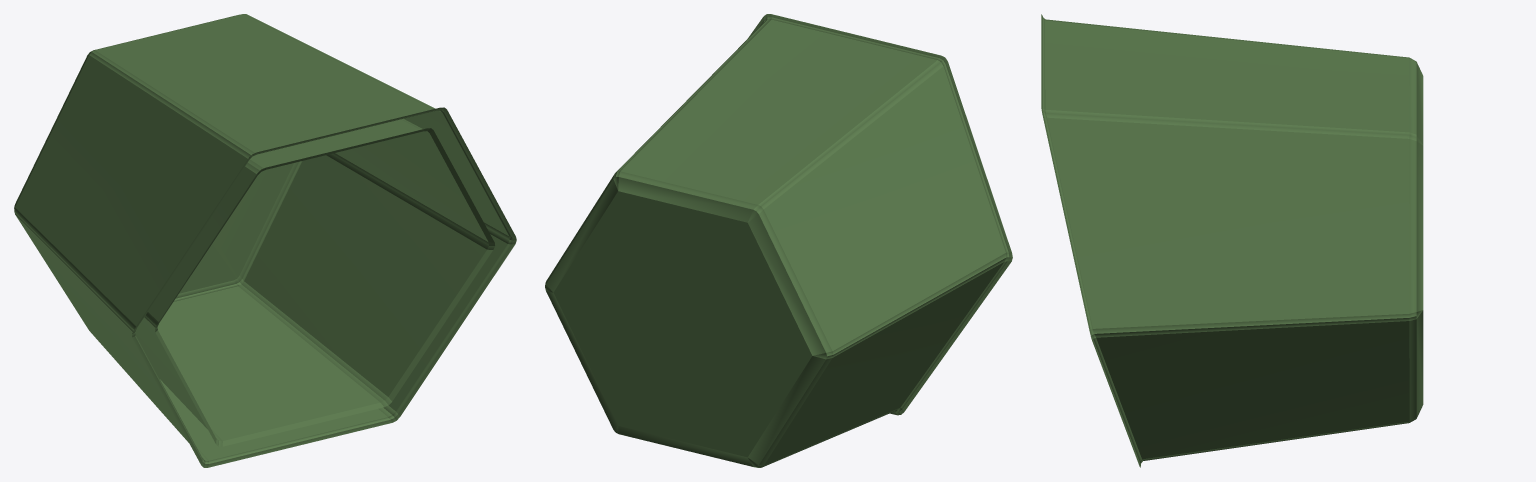
The model's file is MeshBin_28_0_GeomSubset_0.obj.
3 renders of one model, left to right at view 1: azimuth 30°, elevation 25°; view 2: azimuth 150°, elevation 25°; view 3: azimuth 270°, elevation 25°, orthographic. The views are drawn at different scales.
Visible parts, largest first — view 1: MeshBin_28_0_GeomSubset_0; view 2: MeshBin_28_0_GeomSubset_0; view 3: MeshBin_28_0_GeomSubset_0.
Part boxes in pixels (x1,y1,x2,y2): MeshBin_28_0_GeomSubset_0: (14, 14, 516, 467); MeshBin_28_0_GeomSubset_0: (545, 14, 1012, 467); MeshBin_28_0_GeomSubset_0: (1041, 14, 1423, 467).
Bounding box in the file's own units: 0.464 × 0.4042 × 0.4888.
